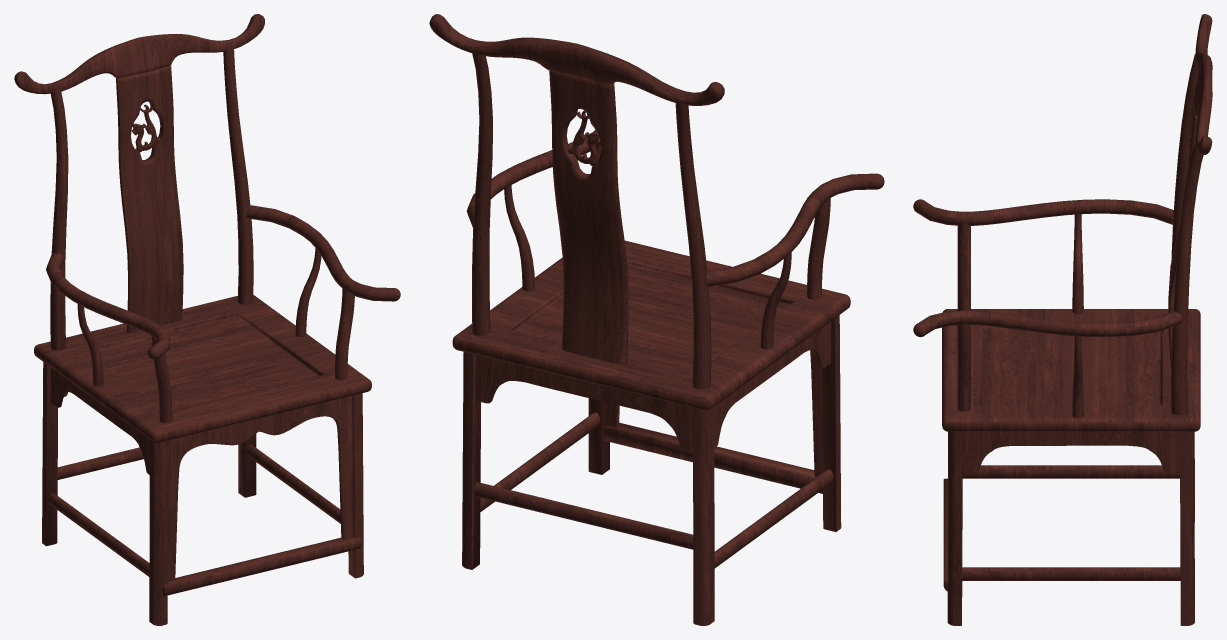
File: QD-清主位.fbx
3 views of the same model, side by side, from view 1: azimuth 30°, elevation 25°; view 2: azimuth 150°, elevation 25°; view 3: azimuth 270°, elevation 25° (orthographic). The views are drawn at different scales.
Visible parts, largest first — view 1: QD-清主位; view 2: QD-清主位; view 3: QD-清主位.
Boxes of the visible parts, box(x1,y1,x2,y2) form: QD-清主位: box(14, 14, 400, 625); QD-清主位: box(429, 14, 884, 625); QD-清主位: box(913, 14, 1212, 625).
Bounding box in the file's own units: 0.704 × 0.6874 × 1.27.
